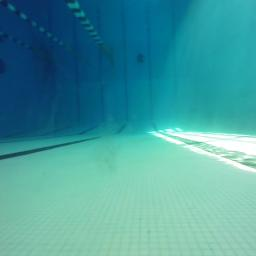Full: (137, 58, 144, 62)
